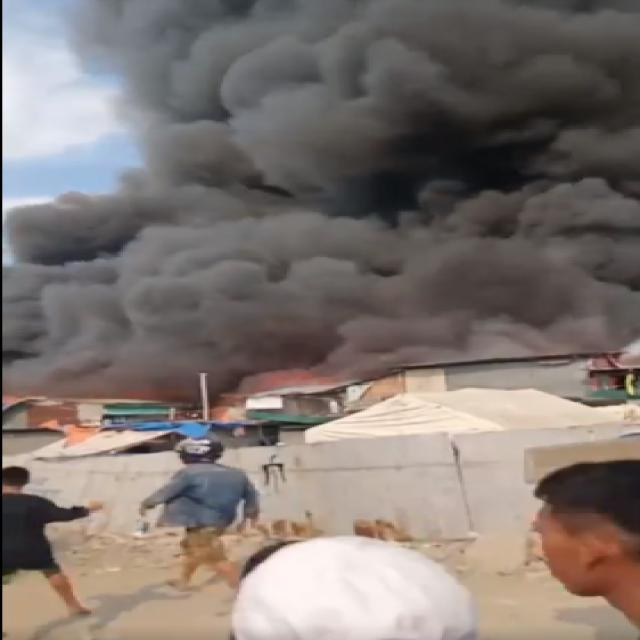Fire: (202, 360, 345, 414)
Smoke: (0, 0, 640, 406)
